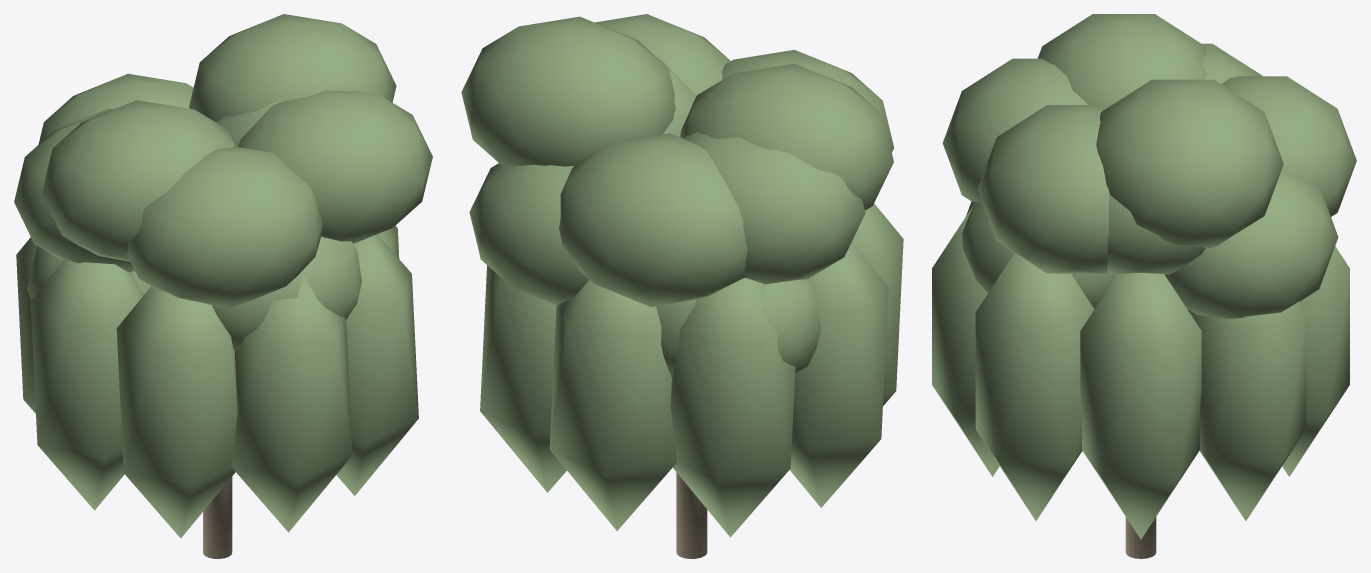
Rendered from rhine-willow_lod0.glb.
3 renders of one model, left to right at view 1: azimuth 30°, elevation 25°; view 2: azimuth 150°, elevation 25°; view 3: azimuth 270°, elevation 25°, orthographic. The views are drawn at different scales.
Visible parts, largest first — view 1: RF_HangingCrown.005, RF_Foliage.007, RF_HangingCrown.006, RF_HangingCrown.004, RF_Foliage.005, RF_Foliage.004, RF_Foliage.008, RF_HangingCrown.007, RF_Foliage.002, RF_Foliage.009, RF_Foliage.006, RF_HangingCrown.003 (+3 smaller); view 2: RF_Foliage.006, RF_Foliage.008, RF_HangingCrown.003, RF_HangingCrown.002, RF_HangingCrown.004, RF_Foliage.004, RF_Foliage.009, RF_HangingCrown.001, RF_Foliage.003, RF_Foliage.001, RF_Foliage.005, RF_HangingCrown.005 (+3 smaller); view 3: RF_HangingCrown, RF_Foliage.008, RF_HangingCrown.007, RF_HangingCrown.001, RF_Foliage.005, RF_Foliage.003, RF_Foliage.004, RF_Foliage.007, RF_Foliage.006, RF_HangingCrown.006, RF_HangingCrown.002, RF_Foliage (+3 smaller).
Boxes of the visible parts, bbox=[...] form: RF_HangingCrown.005: bbox=[116, 286, 237, 538]; RF_Foliage.007: bbox=[127, 146, 323, 308]; RF_HangingCrown.006: bbox=[231, 275, 352, 532]; RF_HangingCrown.004: bbox=[30, 259, 143, 510]; RF_Foliage.005: bbox=[238, 90, 432, 243]; RF_Foliage.004: bbox=[42, 100, 236, 261]; RF_Foliage.008: bbox=[189, 14, 396, 121]; RF_HangingCrown.007: bbox=[336, 234, 418, 495]; RF_Foliage.002: bbox=[212, 236, 361, 351]; RF_Foliage.009: bbox=[14, 108, 134, 272]; RF_Foliage.006: bbox=[38, 73, 193, 144]; RF_HangingCrown.003: bbox=[16, 237, 37, 413]; RF_Foliage.006: bbox=[559, 133, 747, 307]; RF_Foliage.008: bbox=[461, 16, 675, 167]; RF_HangingCrown.003: bbox=[670, 277, 795, 537]; RF_HangingCrown.002: bbox=[549, 280, 677, 530]; RF_HangingCrown.004: bbox=[789, 242, 888, 507]; RF_Foliage.004: bbox=[680, 63, 893, 210]; RF_Foliage.009: bbox=[682, 132, 865, 284]; RF_HangingCrown.001: bbox=[480, 265, 566, 492]; RF_Foliage.003: bbox=[469, 163, 588, 305]; RF_Foliage.001: bbox=[656, 279, 821, 377]; RF_Foliage.005: bbox=[595, 14, 730, 95]; RF_HangingCrown.005: bbox=[852, 203, 903, 405]; RF_HangingCrown: bbox=[1080, 273, 1201, 539]; RF_Foliage.008: bbox=[1096, 79, 1283, 247]; RF_HangingCrown.007: bbox=[975, 253, 1094, 520]; RF_HangingCrown.001: bbox=[1187, 302, 1306, 520]; RF_Foliage.005: bbox=[977, 105, 1110, 273]; RF_Foliage.003: bbox=[1165, 169, 1338, 318]; RF_Foliage.004: bbox=[1038, 14, 1207, 105]; RF_Foliage.007: bbox=[942, 58, 1087, 203]; RF_Foliage.006: bbox=[1221, 76, 1356, 216]; RF_HangingCrown.006: bbox=[932, 205, 999, 476]; RF_HangingCrown.002: bbox=[1282, 246, 1349, 476]; RF_Foliage: bbox=[1107, 192, 1205, 274].
Bounding box in the file's own units: 7.41 × 9.52 × 7.16.
